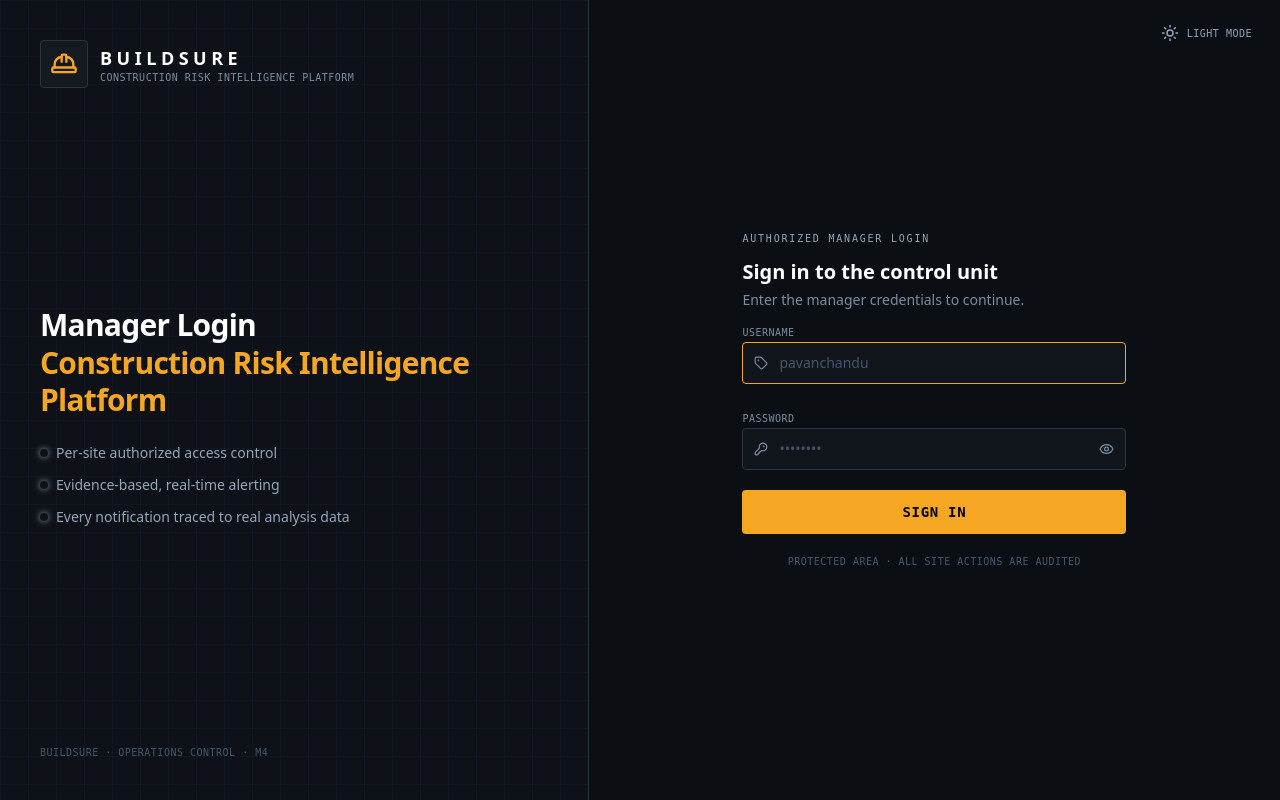
Scenario: Login page › shows a 401 message for invalid credentials
Type "wronguser" into the field with placeholder "pavanchandu" at (934, 363), box [742, 342, 1126, 384]
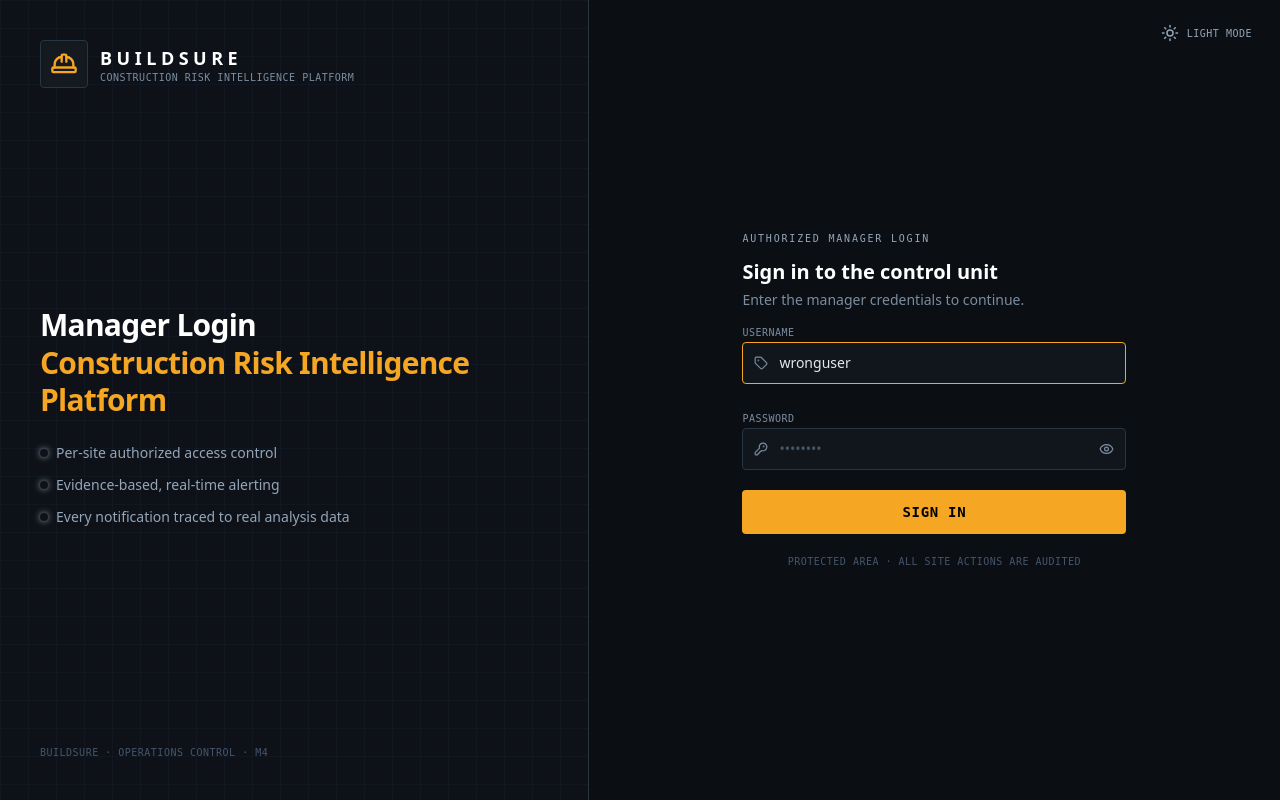
Type "nope" into the password field with placeholder "••••••••" at (934, 449), box [742, 428, 1126, 470]
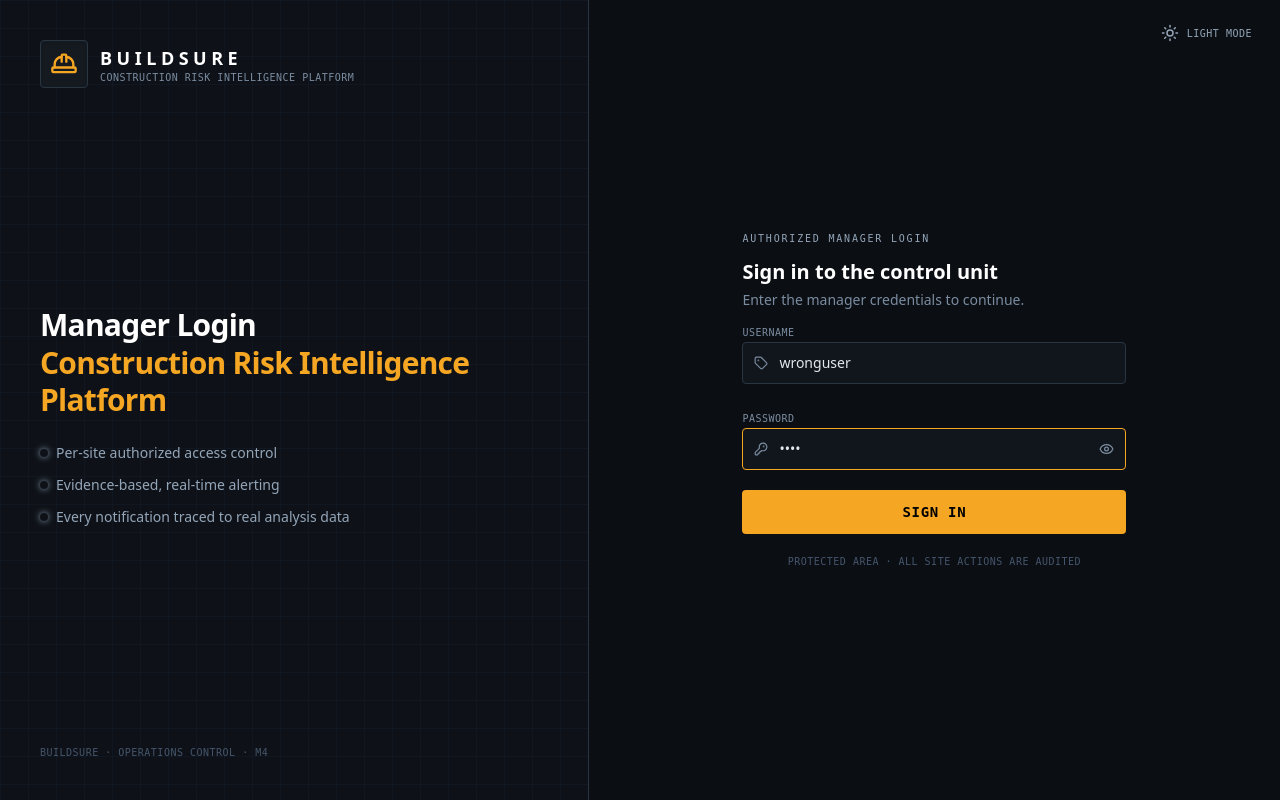
Click the button "SIGN IN" at (934, 512), box [742, 490, 1126, 534]
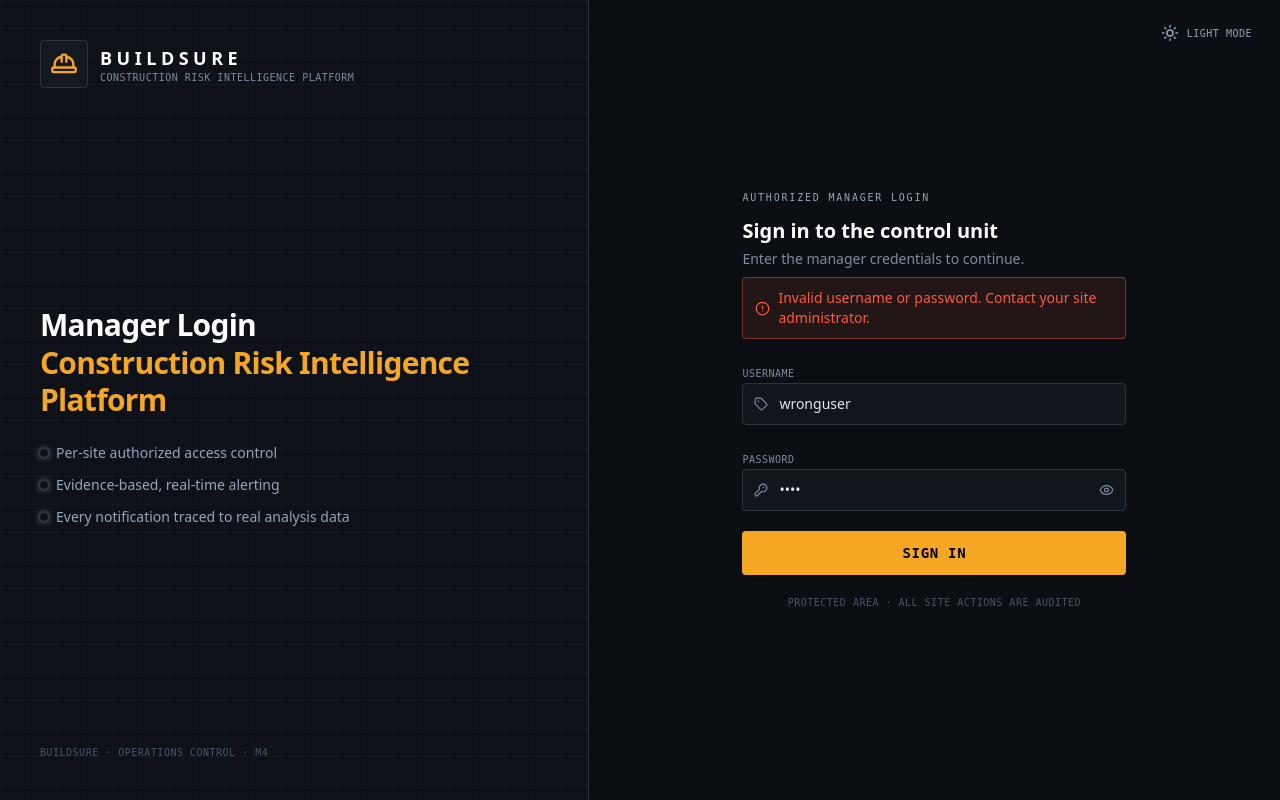
Expected: the text "Invalid username or password. Contact your site administrator." is shown, [778, 288, 1113, 328]
